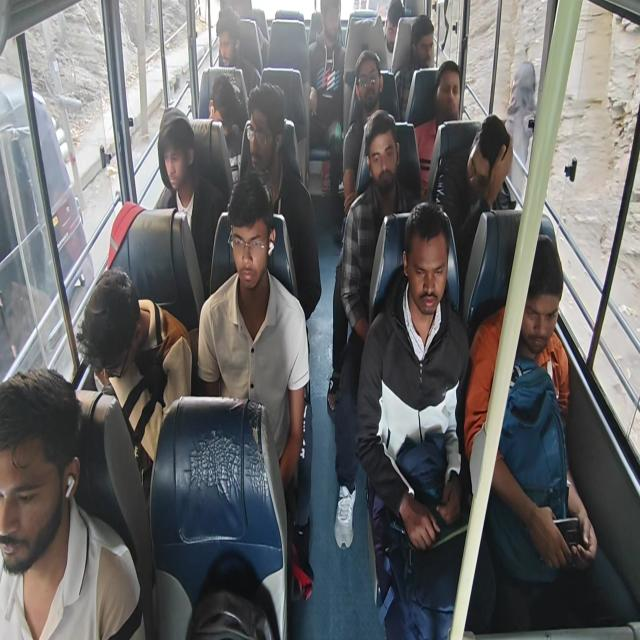person: (0, 371, 85, 580), (76, 271, 143, 385), (222, 184, 277, 295), (516, 254, 559, 354), (409, 212, 447, 311), (469, 120, 501, 206), (244, 94, 277, 168), (208, 76, 240, 142), (367, 131, 398, 195), (162, 122, 188, 192), (352, 59, 384, 110), (212, 16, 240, 70), (438, 68, 461, 123), (316, 3, 344, 45), (410, 18, 432, 65), (383, 5, 401, 52)
